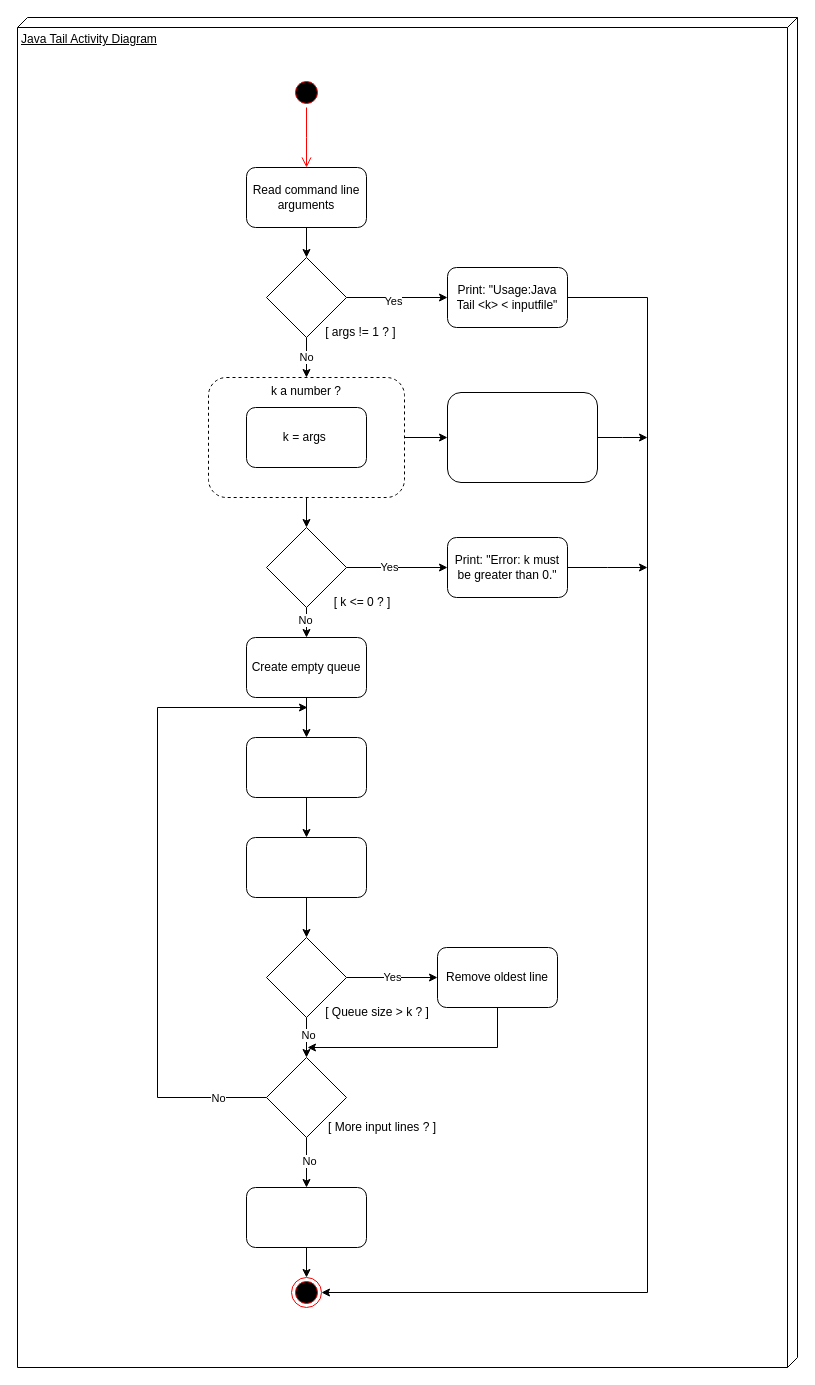
Image size: 815x1385. Some labels were removed from this diagram. Here are the shapes that lost their labels. From the top down, the box of each, then its label:
(446, 392, 598, 482): Print: "Error: k must be a positive integer" "Usage:Java Tail <k> < inputfile"
(246, 736, 366, 798): Read next line
(246, 836, 366, 898): Add line to queue
(246, 1186, 366, 1248): Print queue contents
